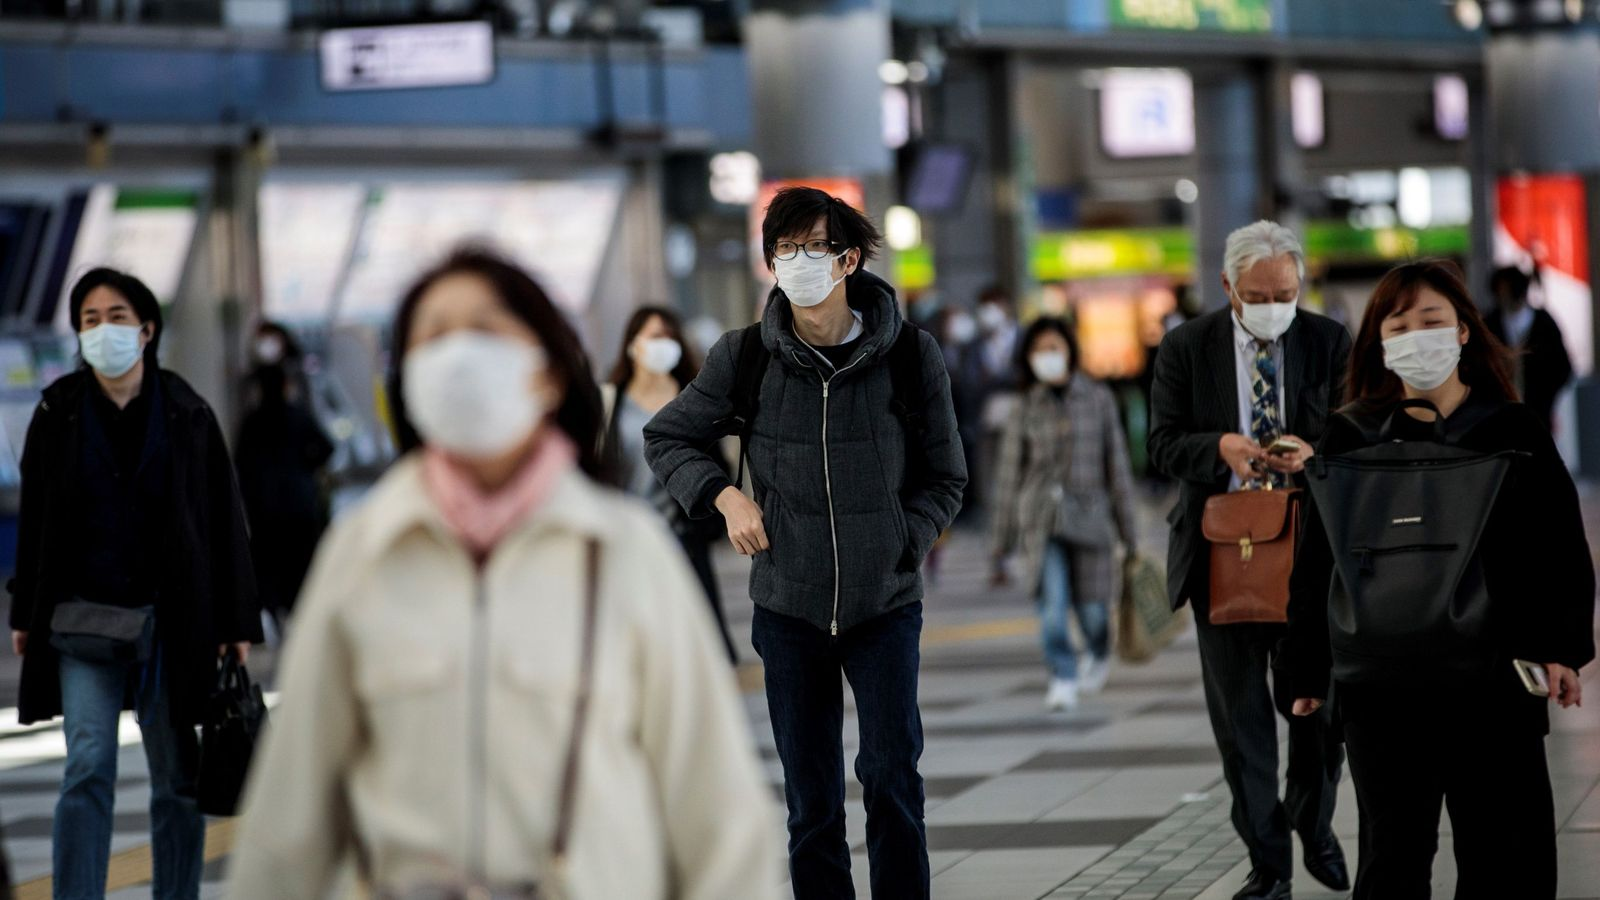with_mask: (402, 303, 536, 414), (768, 226, 840, 303), (1387, 304, 1450, 370), (1235, 262, 1291, 324), (84, 296, 139, 352)
